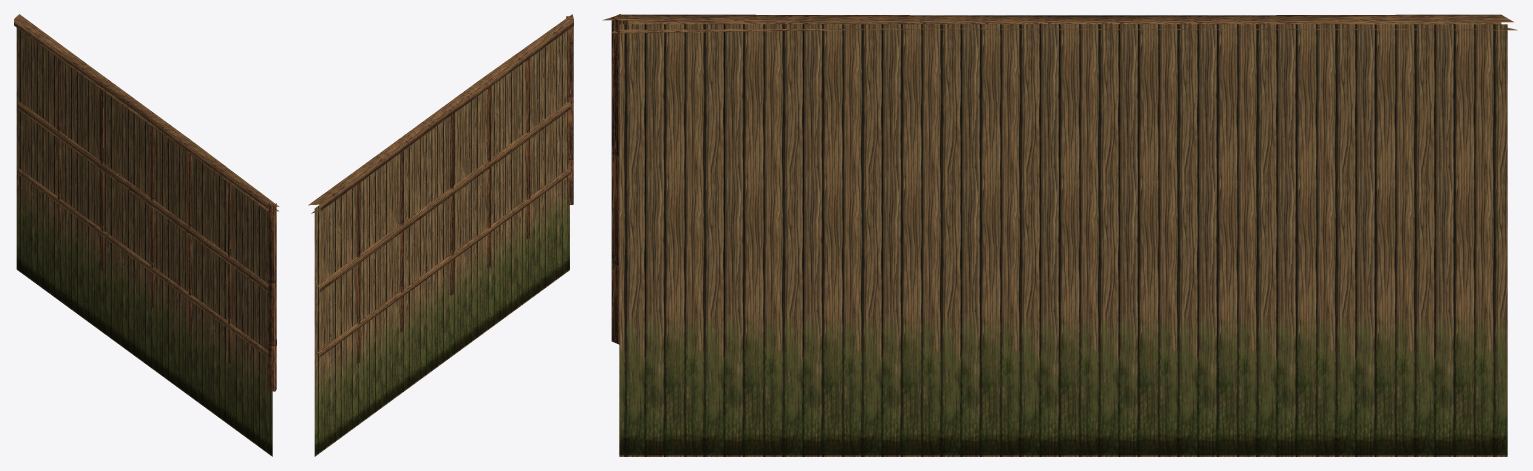
File: LAKETOWN_WAREHOUSE2_PS_WH2_PLATWALL4325__GX.fbx
The picture shows the model from 3 angles, left to right: view 1: azimuth 30°, elevation 25°; view 2: azimuth 150°, elevation 25°; view 3: azimuth 270°, elevation 25°; orthographic projection. The views are drawn at different scales.
Visible parts, largest first — view 1: LAKETOWN_WAREHOUSE2_PS_WH2_PLATWALL4325__GX; view 2: LAKETOWN_WAREHOUSE2_PS_WH2_PLATWALL4325__GX; view 3: LAKETOWN_WAREHOUSE2_PS_WH2_PLATWALL4325__GX.
Part boxes in pixels (x1=…): LAKETOWN_WAREHOUSE2_PS_WH2_PLATWALL4325__GX: x1=14, y1=14, x2=279, y2=456; LAKETOWN_WAREHOUSE2_PS_WH2_PLATWALL4325__GX: x1=308, y1=14, x2=573, y2=456; LAKETOWN_WAREHOUSE2_PS_WH2_PLATWALL4325__GX: x1=602, y1=14, x2=1517, y2=456.
Size of the model in its own units: 5821 by 152335 by 287764.
Materials: 5 (5 with a texture image).
